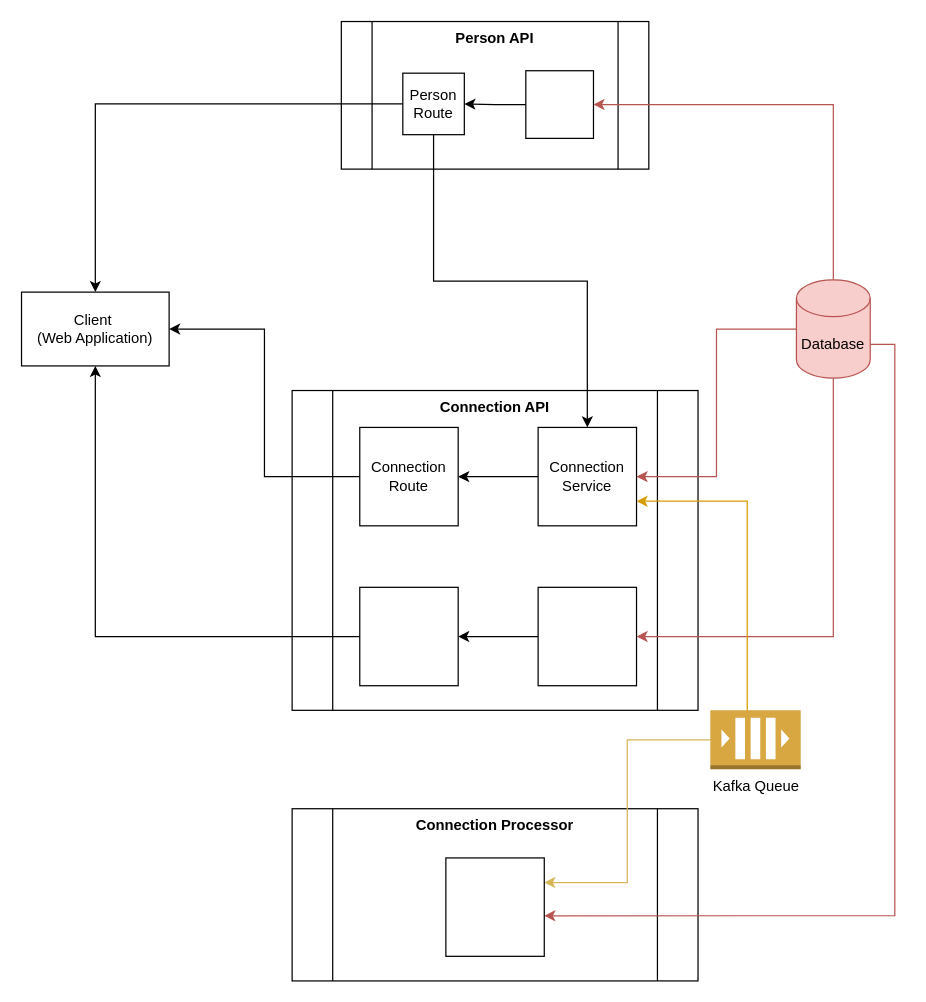
Image size: 926x1002. Some labels were removed from this diagram. The centre of each missing label's shape, as x and y in pixels:
Connection Consumer: point 494,906
Location Route: point 408,636
Location Service: point 587,636
Person Service: point 559,103
